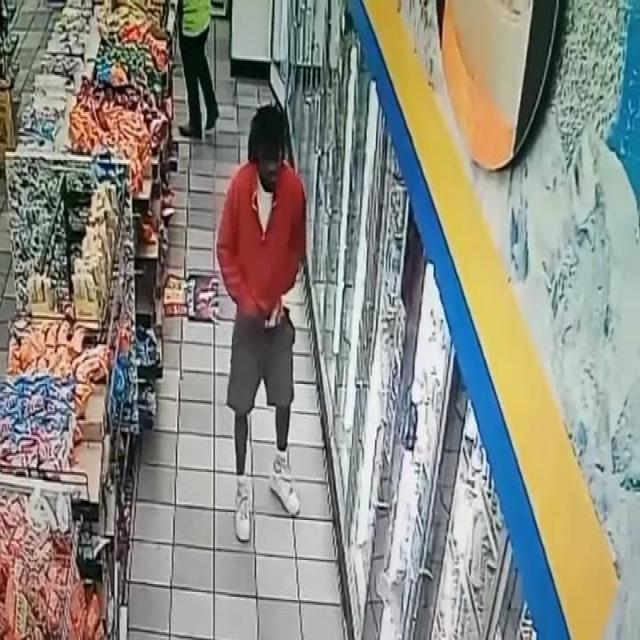Shoplifting: (203, 86, 336, 562)
